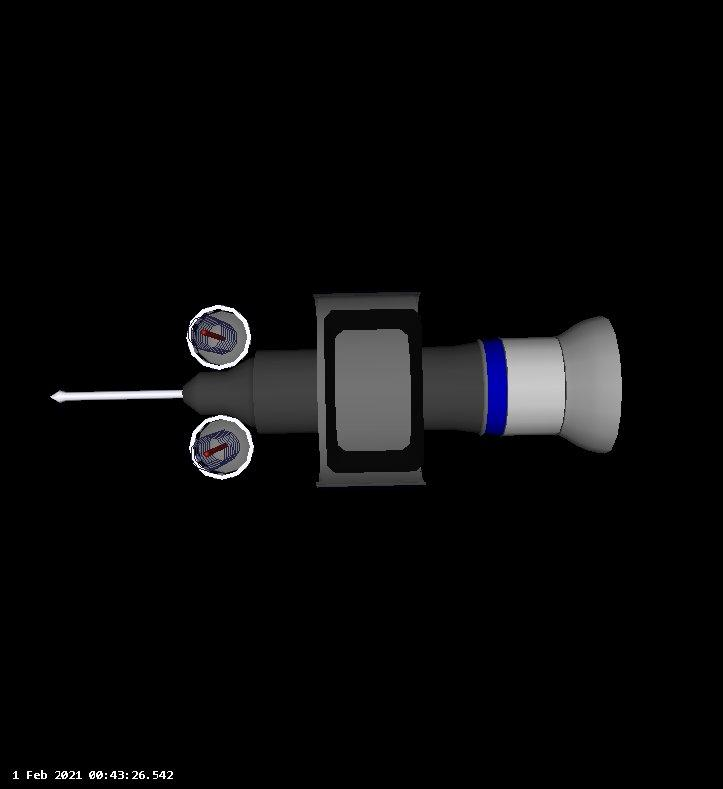antenna: (185, 303, 252, 372), (188, 413, 255, 482), (44, 383, 192, 412)
body: (183, 335, 507, 441)
thruster: (506, 312, 625, 459), (320, 306, 422, 475)
